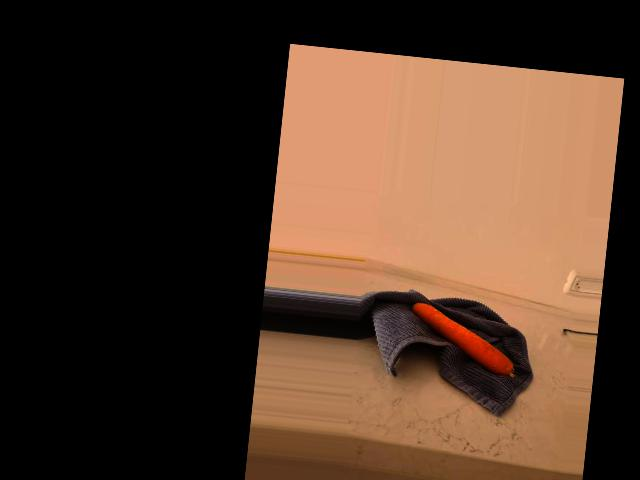carrot: (405, 303, 517, 380)
